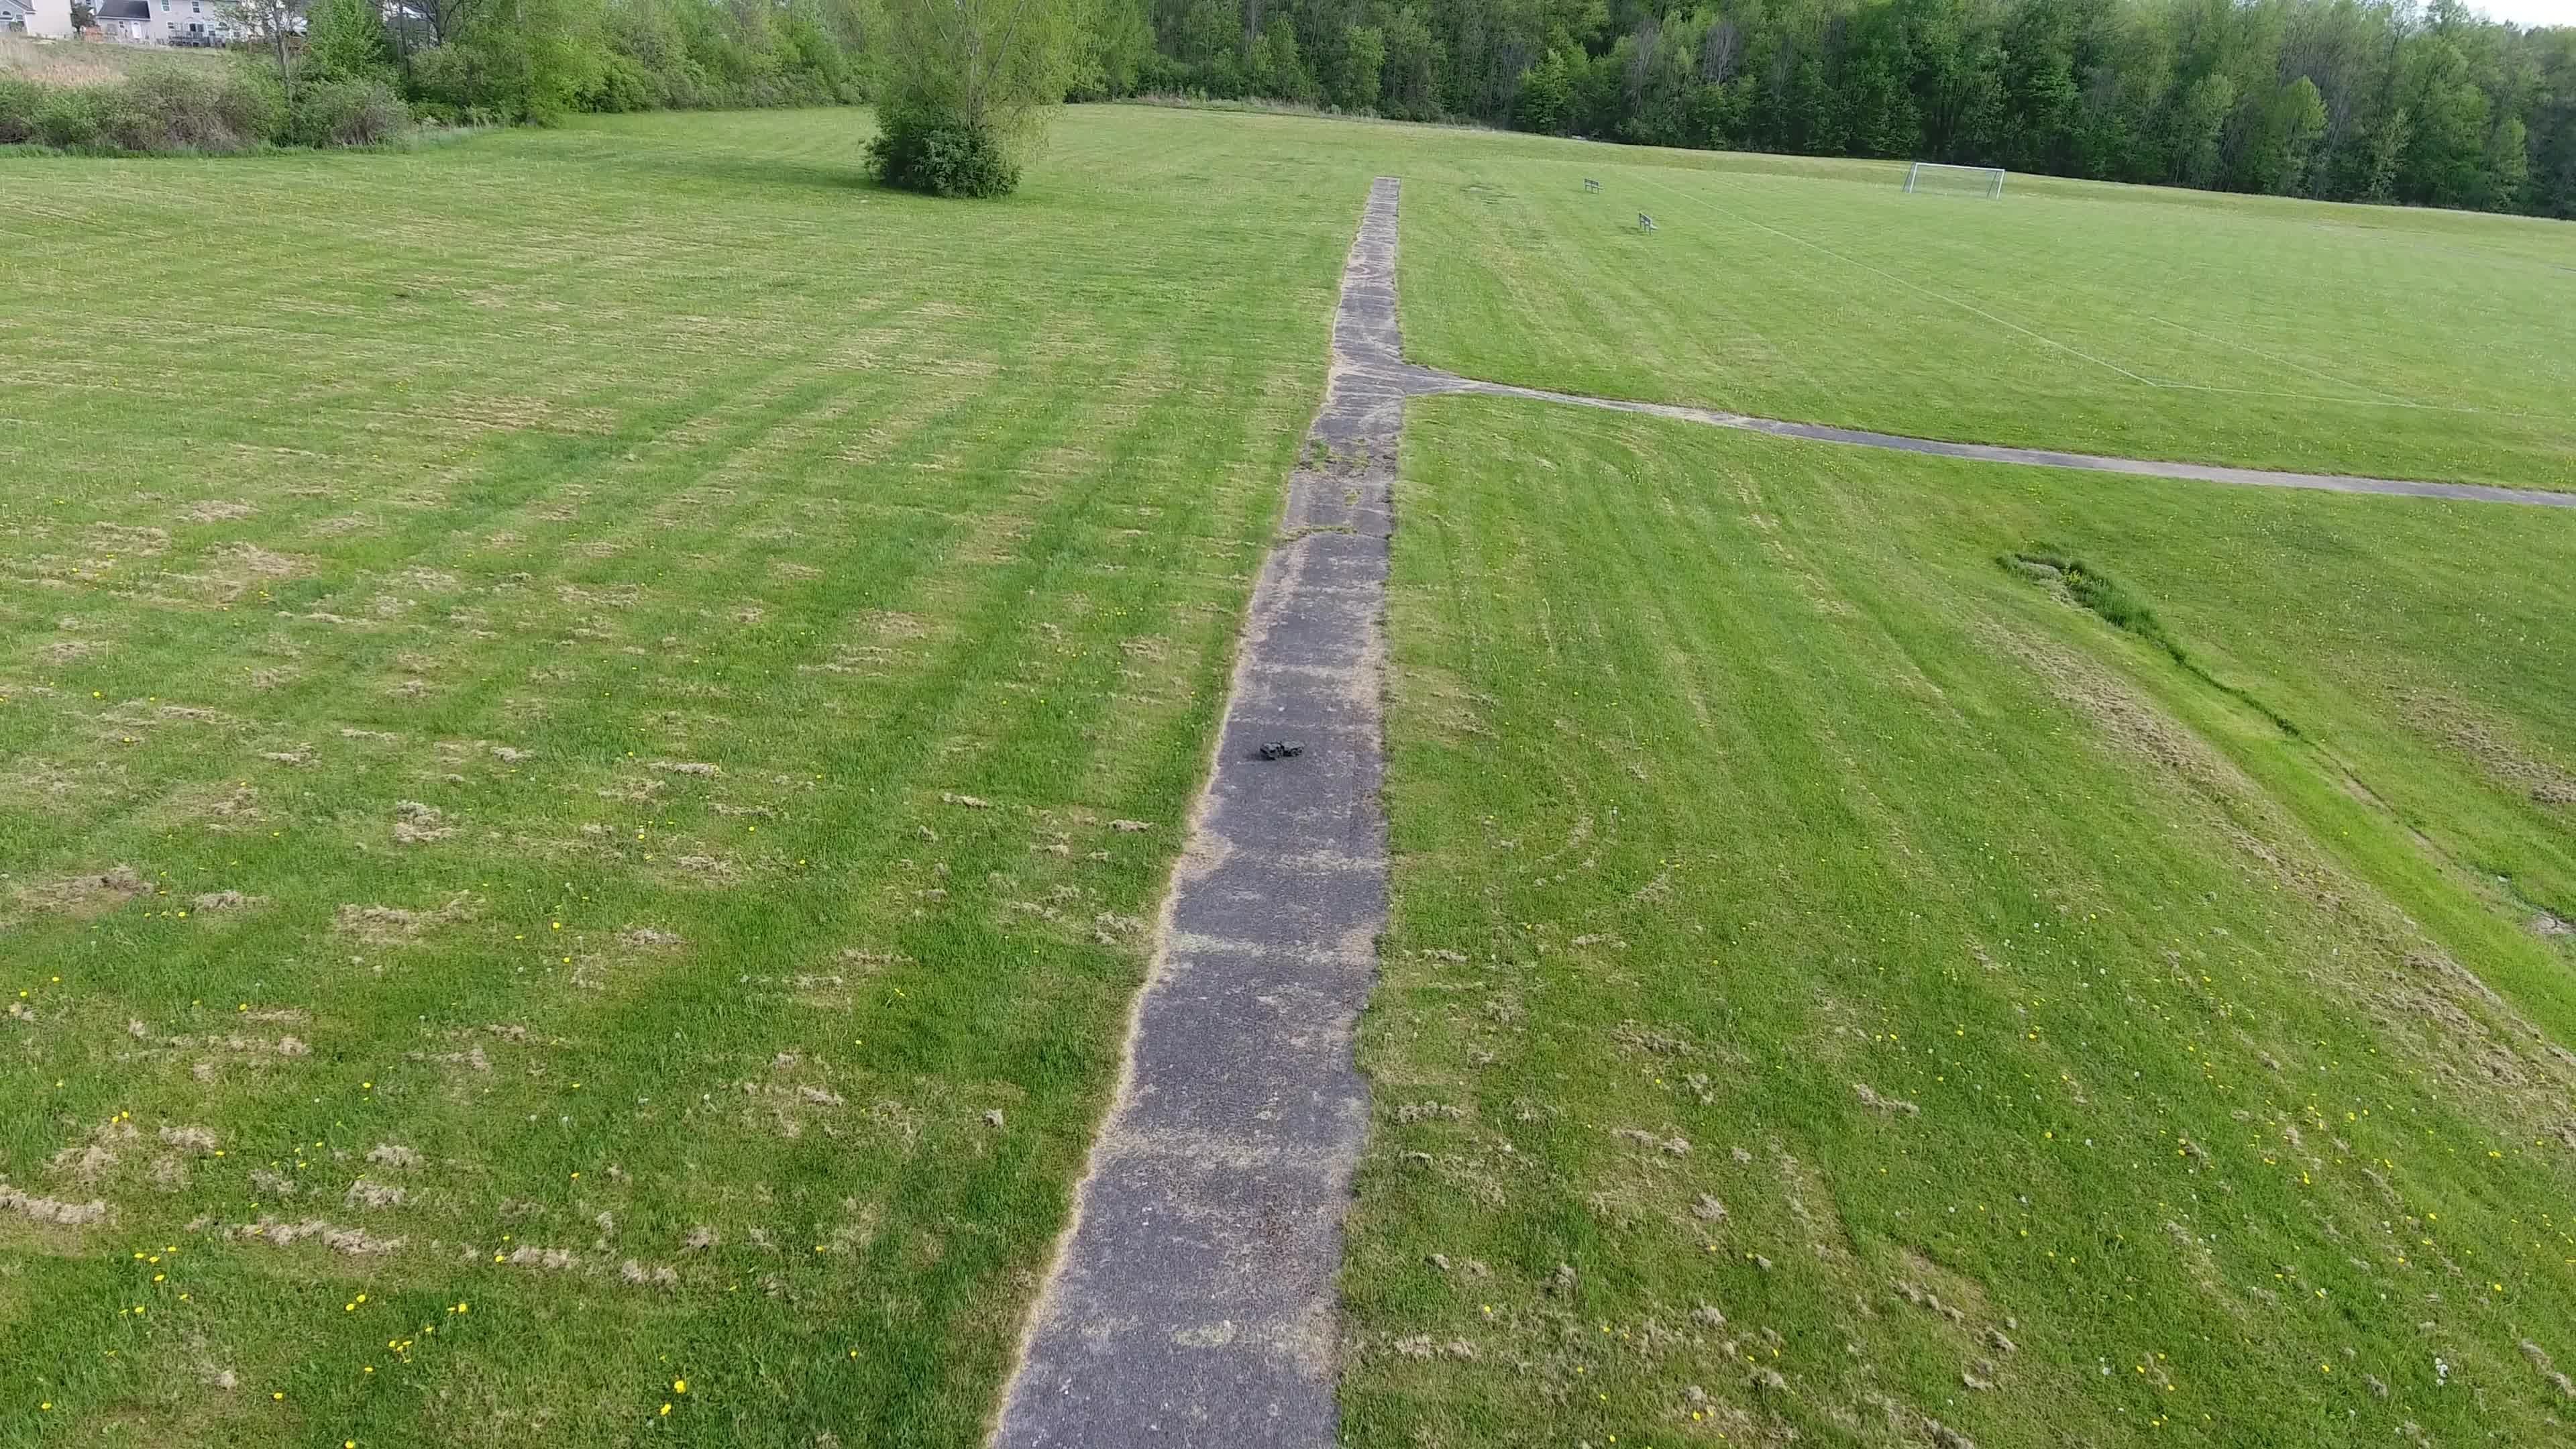transporter9_camo: (1258, 738, 1307, 761)
